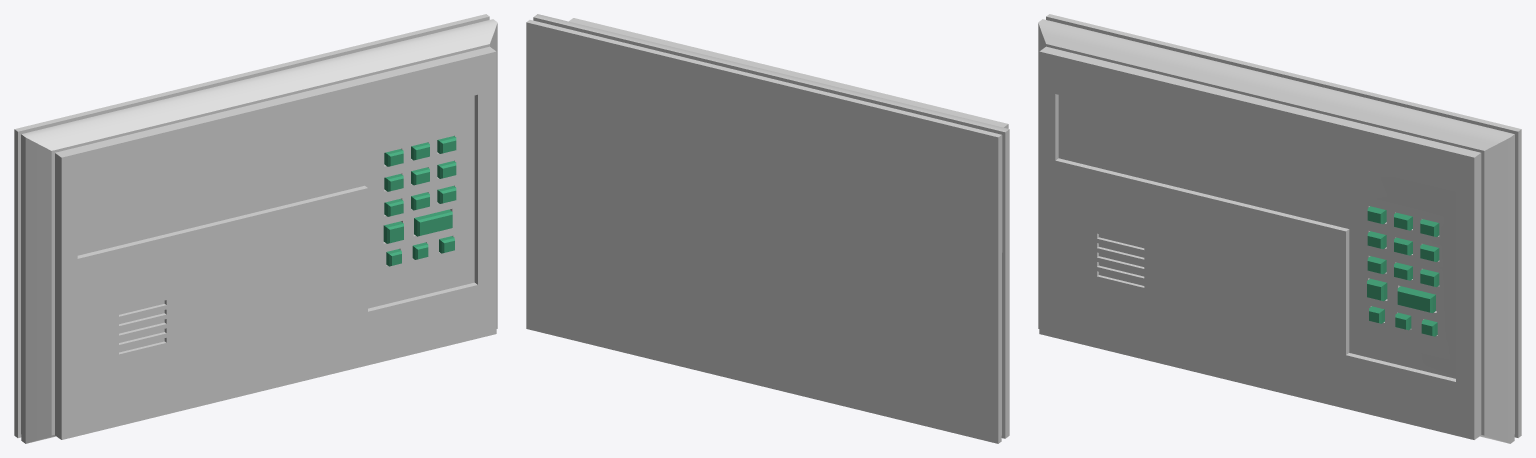
File: alarm-box.fbx
3 views of the same model, side by side, from view 1: azimuth 30°, elevation 25°; view 2: azimuth 150°, elevation 25°; view 3: azimuth 330°, elevation 25° (orthographic).
Visible parts, largest first — view 1: pCube171, pCube172; view 2: pCube171; view 3: pCube171, pCube172.
Boxes of the visible parts, box(x1,y1,x2,y2) form: pCube171: box(14, 14, 497, 443); pCube172: box(383, 136, 456, 266); pCube171: box(526, 14, 1009, 443); pCube171: box(1038, 14, 1521, 443); pCube172: box(1367, 206, 1439, 336).
Size of the model in its own units: 28.69 by 17.81 by 3.08.
